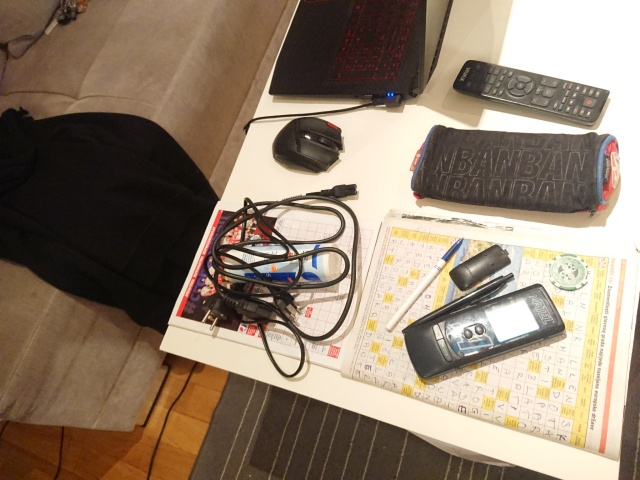Solana Pag Fine Sea Salt 250g: (224, 241, 344, 287)
